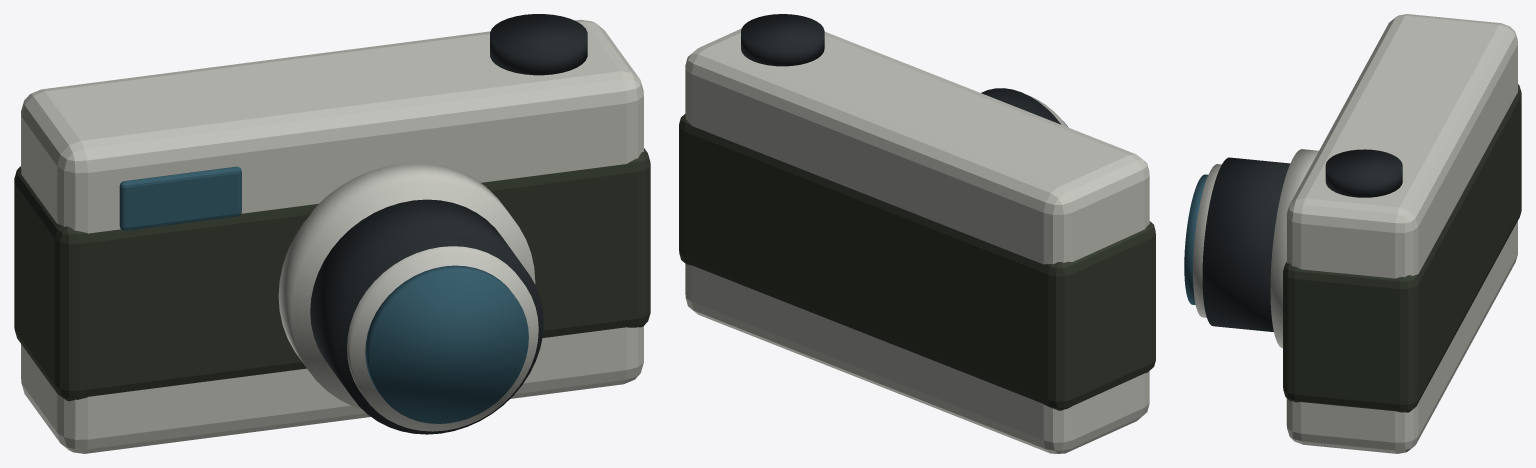
The model's file is decor_film_camera.glb.
3 renders of one model, left to right at view 1: azimuth 30°, elevation 25°; view 2: azimuth 150°, elevation 25°; view 3: azimuth 270°, elevation 25°, orthographic. The views are drawn at different scales.
Visible parts, largest first — view 1: decor_film_camera; view 2: decor_film_camera; view 3: decor_film_camera.
Part boxes in pixels (x1,y1,x2,y2): decor_film_camera: [14, 14, 650, 453]; decor_film_camera: [679, 14, 1155, 453]; decor_film_camera: [1184, 14, 1521, 453].
Size of the model in its own units: 0.13 by 0.0745 by 0.0874.
